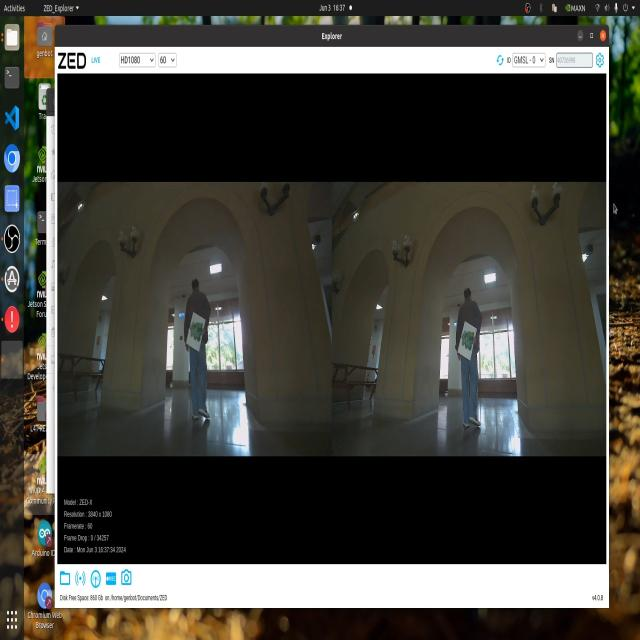green: (458, 318, 476, 362), (185, 310, 202, 351)
